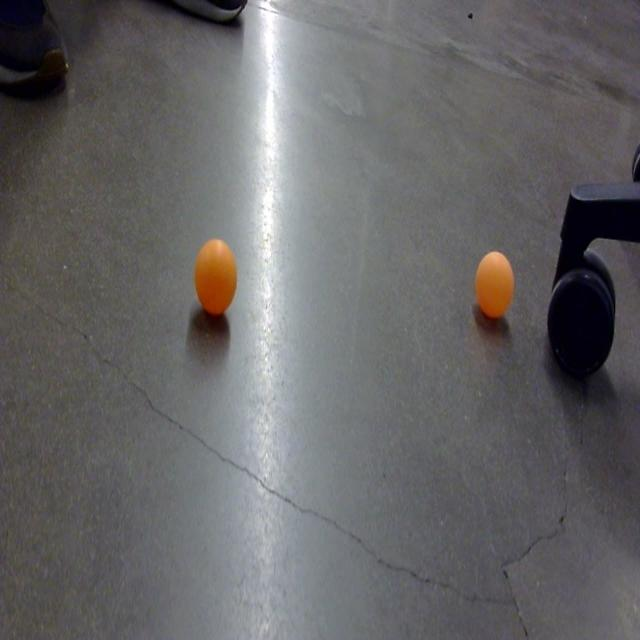ball: (192, 236, 239, 318), (474, 248, 515, 322)
